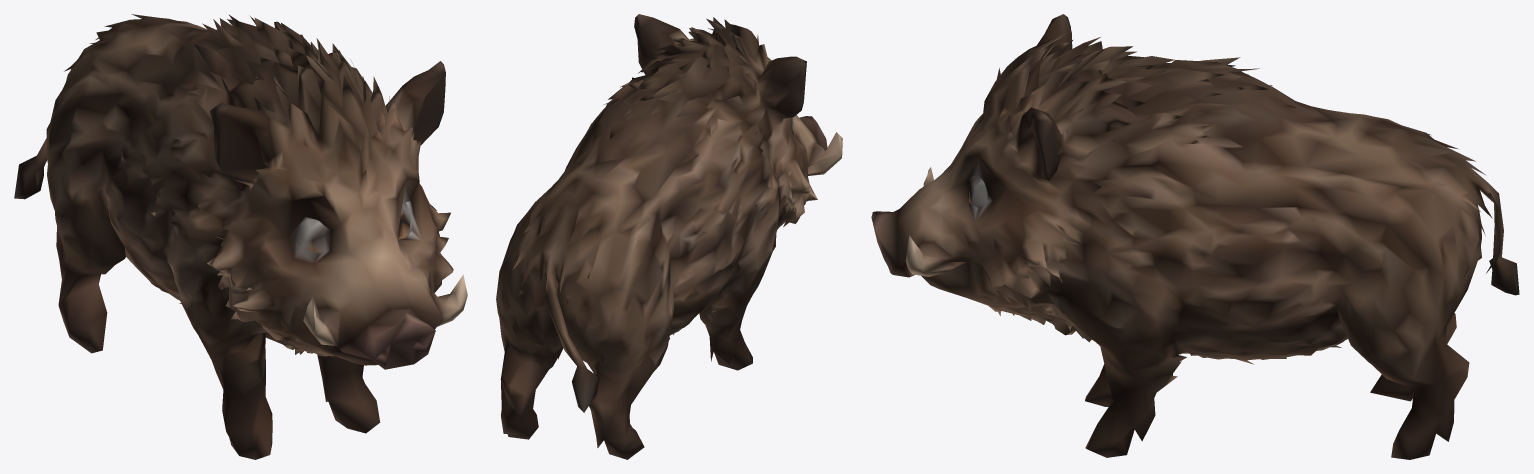
The model's file is boar.glb.
The picture shows the model from 3 angles, left to right: view 1: azimuth 30°, elevation 25°; view 2: azimuth 150°, elevation 25°; view 3: azimuth 270°, elevation 25°; orthographic projection. The views are drawn at different scales.
Bounding box in the file's own units: 0.7429 × 1.23 × 1.87.
